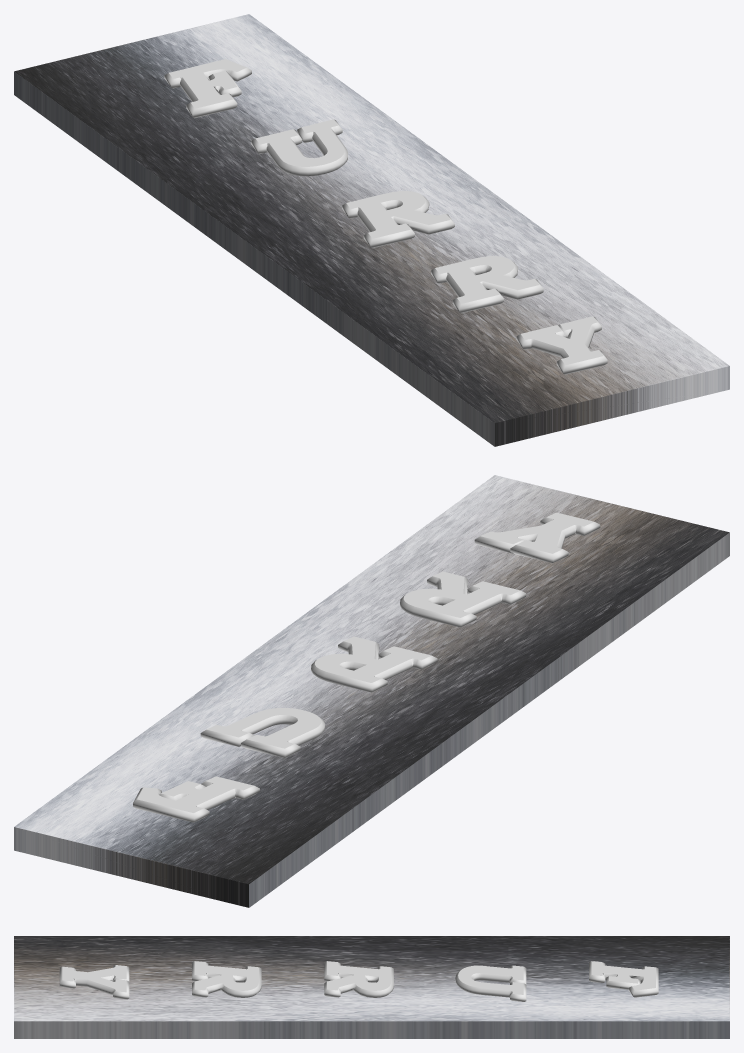
File: Placa4.fbx
3 renders of one model, top to bottom at view 1: azimuth 30°, elevation 25°; view 2: azimuth 150°, elevation 25°; view 3: azimuth 270°, elevation 25°, orthographic. The views are drawn at different scales.
Parts seen in each view (by area): view 1: Text.003; view 2: Text.003; view 3: Text.003.
Part boxes in pixels (<box>): Text.003: <box>14,14,729,446</box>; Text.003: <box>14,475,729,907</box>; Text.003: <box>14,936,729,1038</box>.
Bounding box in the file's own units: 153 × 20.35 × 541.
